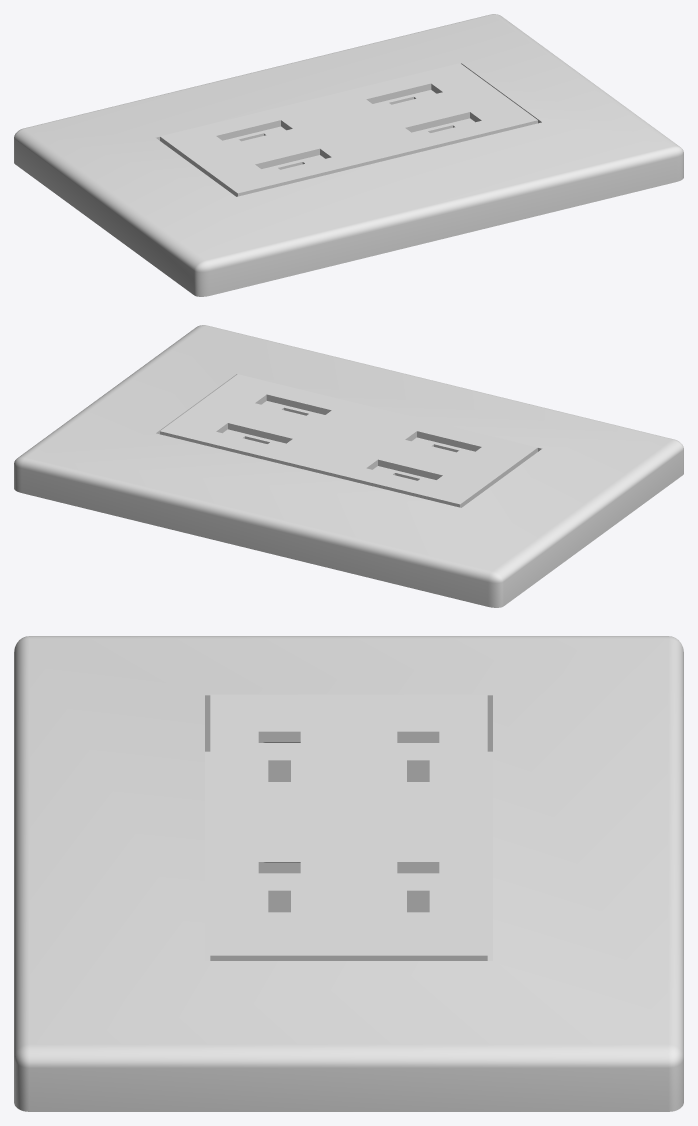
File: plug.fbx
3 views of the same model, one above another, from view 1: azimuth 30°, elevation 25°; view 2: azimuth 150°, elevation 25°; view 3: azimuth 270°, elevation 25° (orthographic). The views are drawn at different scales.
Parts seen in each view (by area): view 1: 平面; view 2: 平面; view 3: 平面.
Part boxes in pixels (bbox=[...]): 平面: bbox=[14, 14, 683, 296]; 平面: bbox=[14, 325, 683, 607]; 平面: bbox=[14, 636, 683, 1111].
Size of the model in its own units: 10.86 by 0.888 by 7.24.
